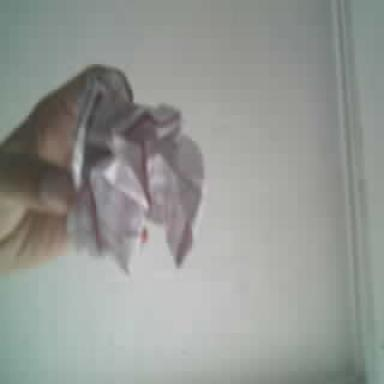paper: (67, 70, 204, 269)
